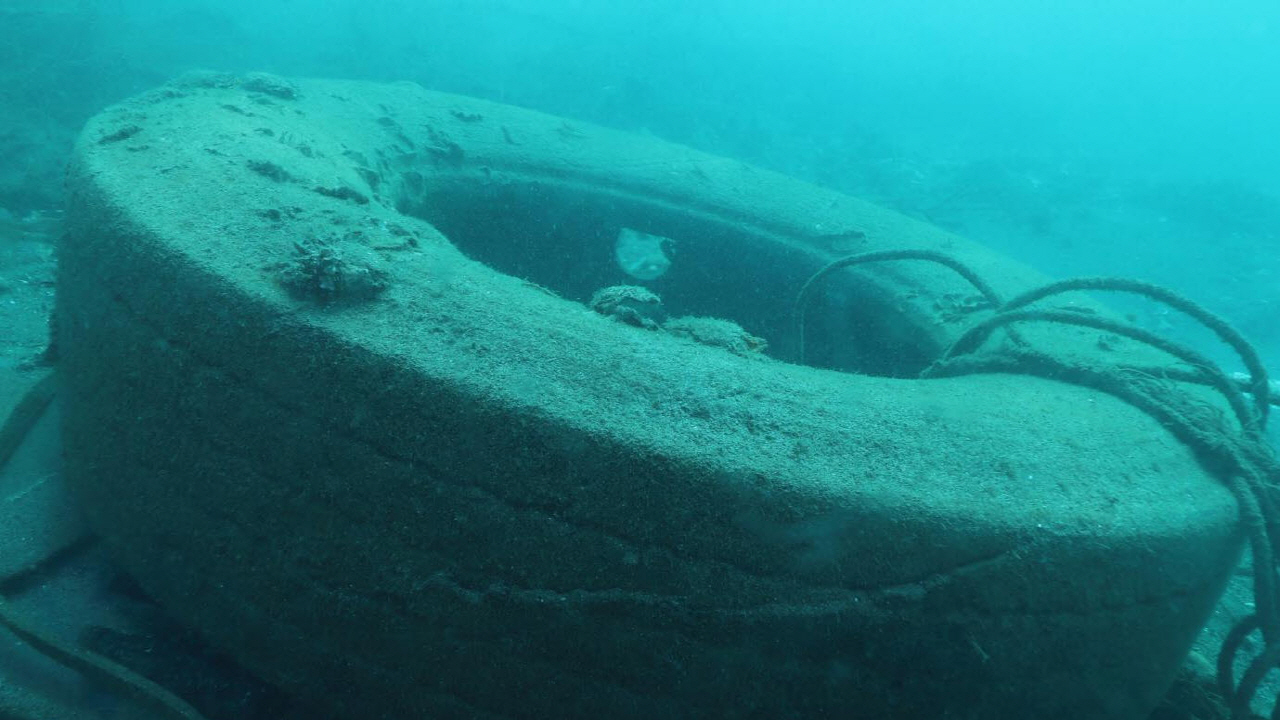bundle of ropes: (786, 243, 1280, 720)
tire: (51, 65, 1249, 720)
